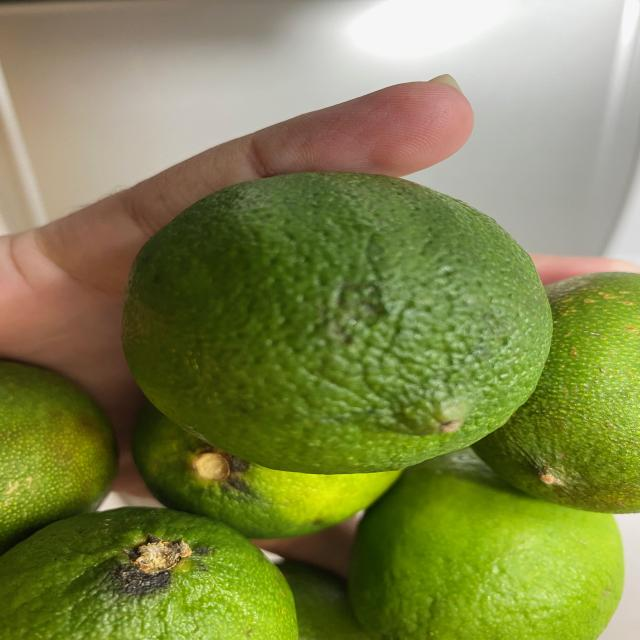lemon: (5, 178, 640, 640)
